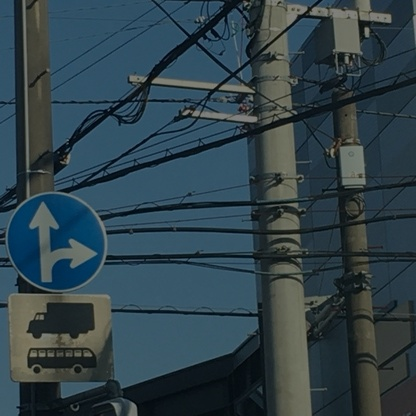Direction_sign: (1, 197, 117, 321)
